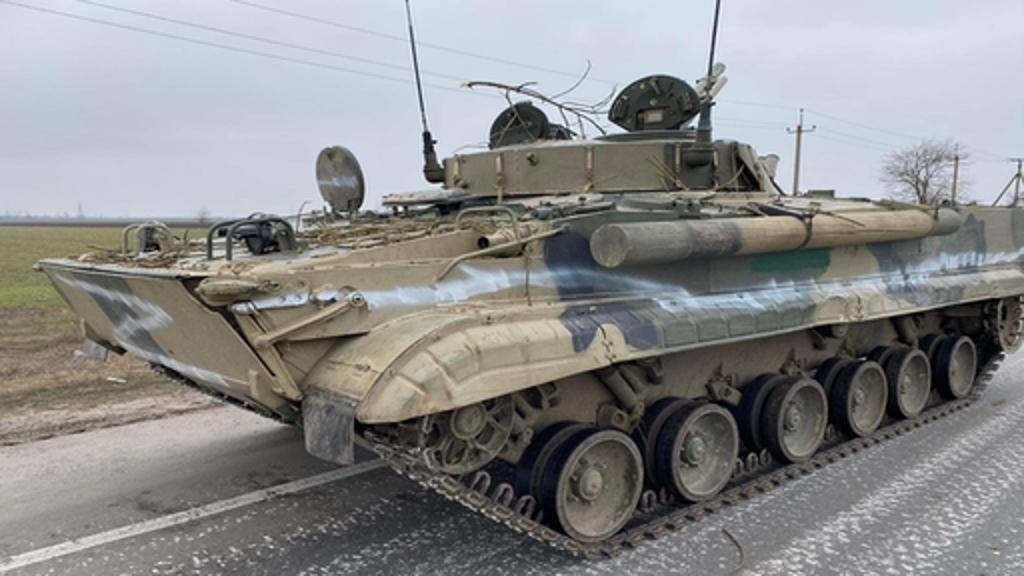APC-IFV: (32, 60, 1018, 560)
